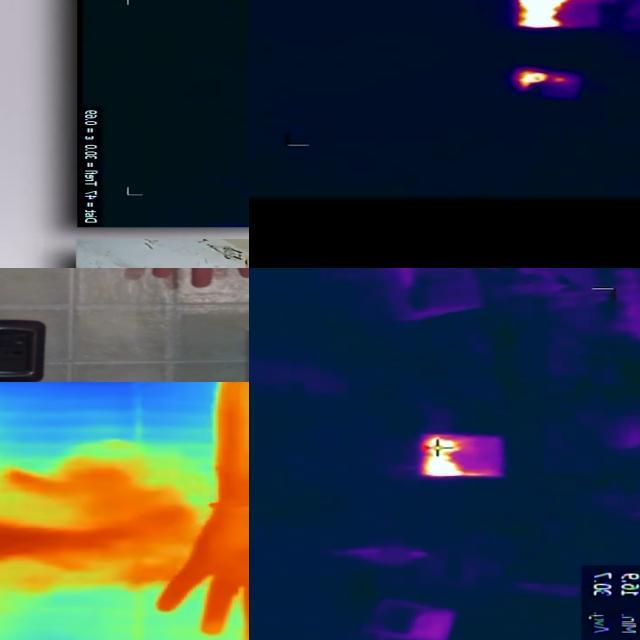fire: (423, 432, 501, 478), (519, 1, 619, 27), (513, 70, 571, 90)
